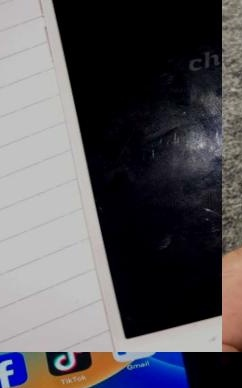scratch: (193, 315, 222, 350)
